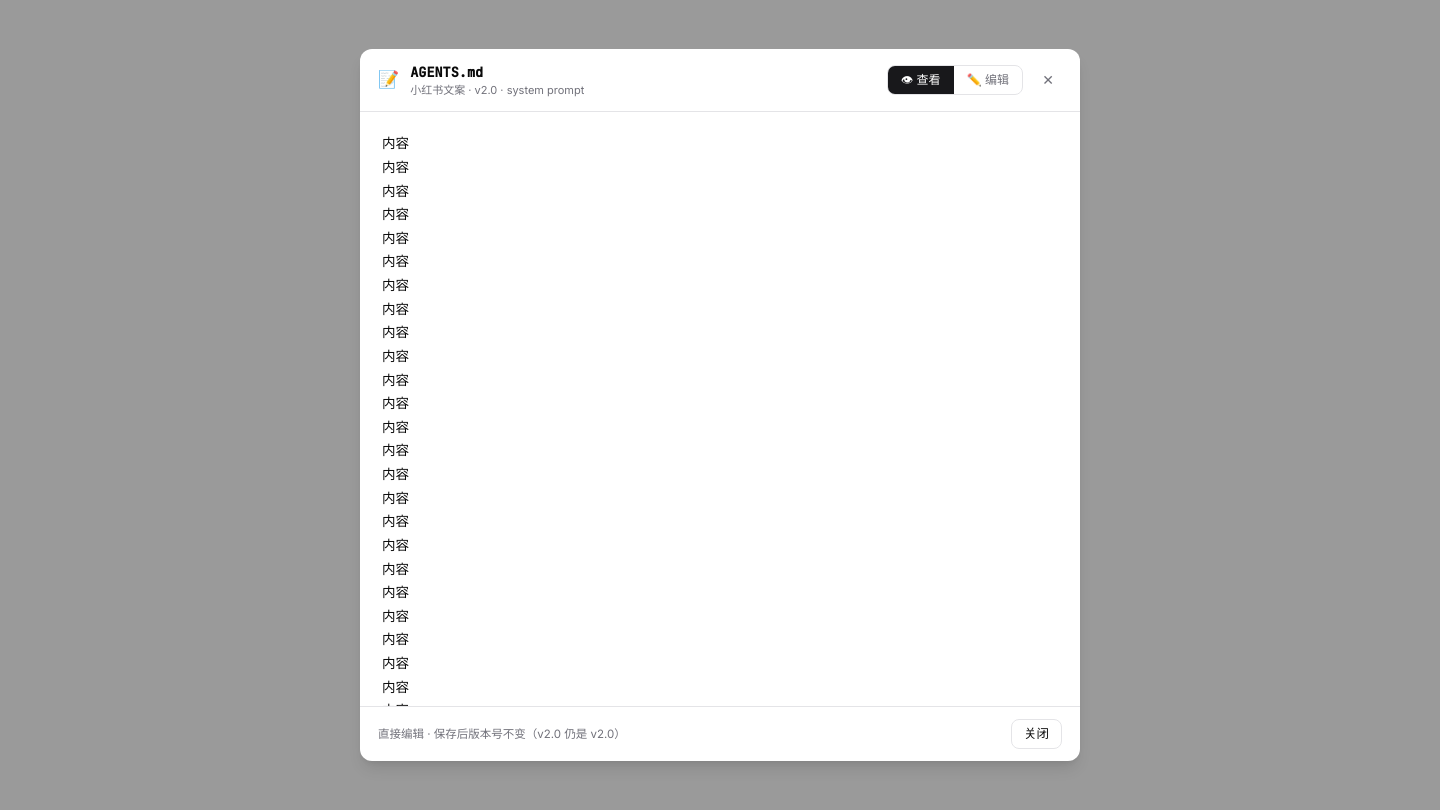
Test: ComponentModalMdEditor — v0.0.283 内容自适应高度 › edit 模式 textarea 高度随 scrollHeight 变化（内容驱动撑高）
Click the button "✏️ 编辑": coordinates (988, 80) [954,66,1022,94]
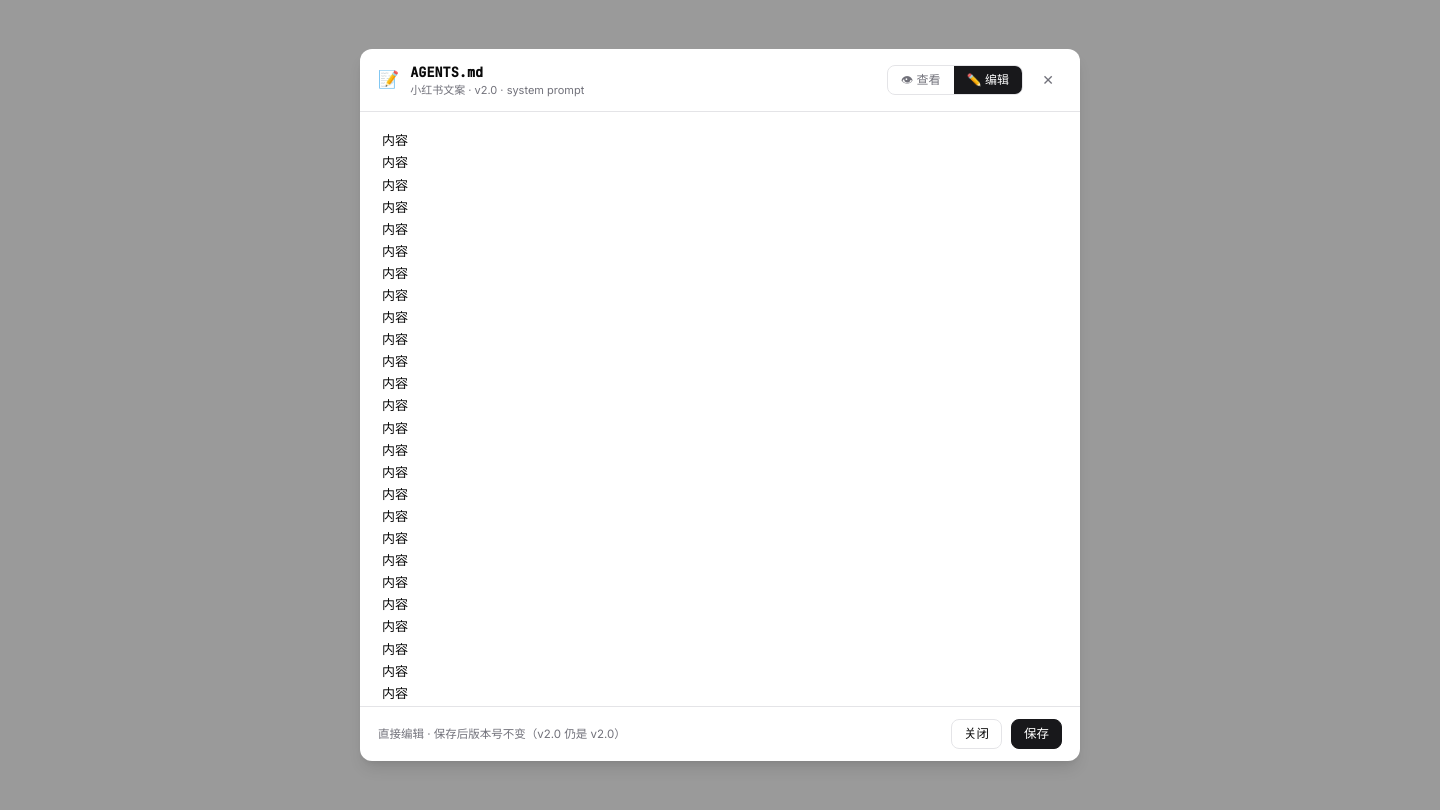
Expected: the text box is shown, [360,112,1080,706]
